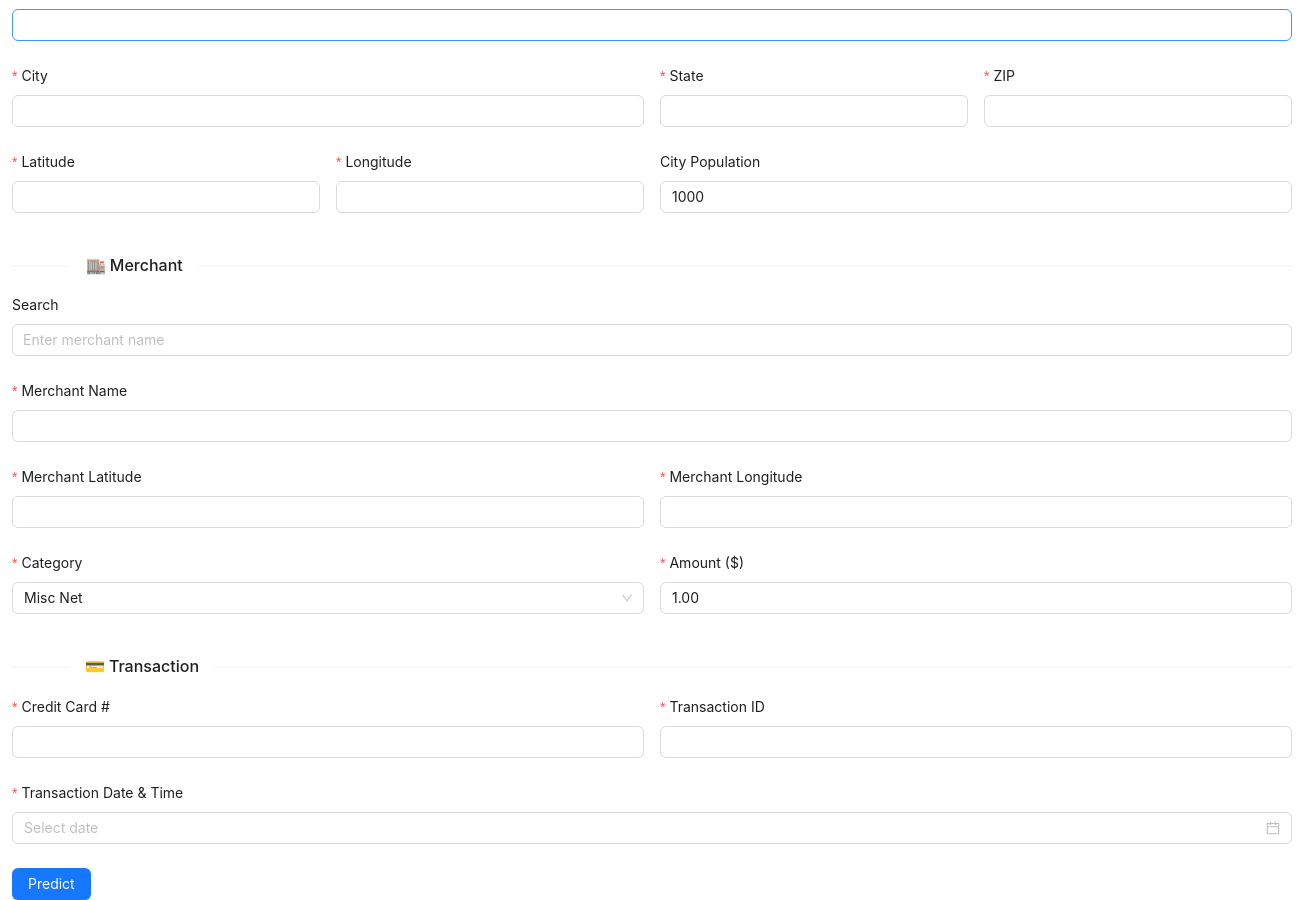
Test: TransactionForm › shows validation error when submitting empty form
(page scrolled)
Click the button "Predict". click: (51, 884)
box: [12,868,91,899]
(page scrolled)
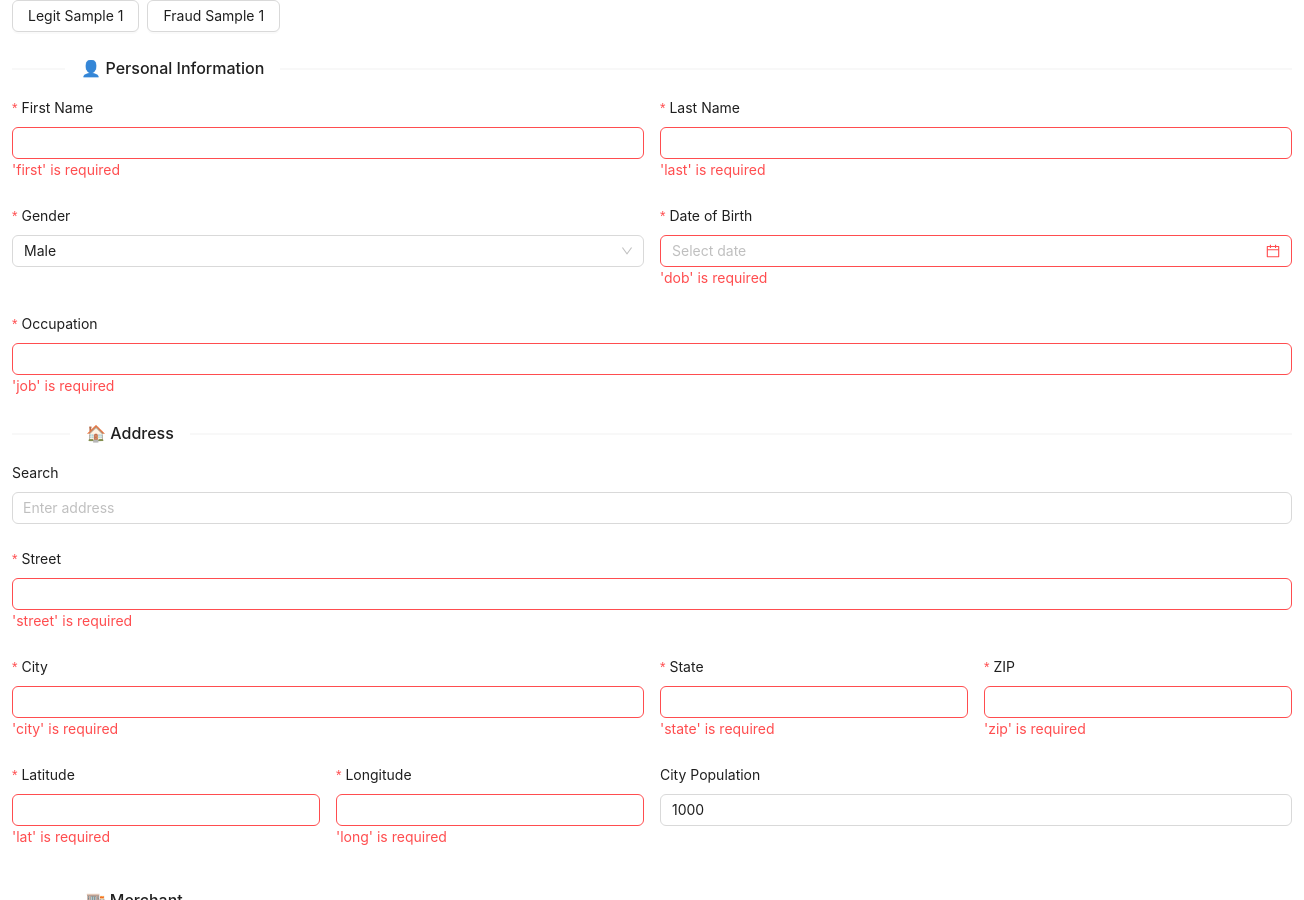
Result: the text "'first' is required" is shown at [12,161,120,178]
